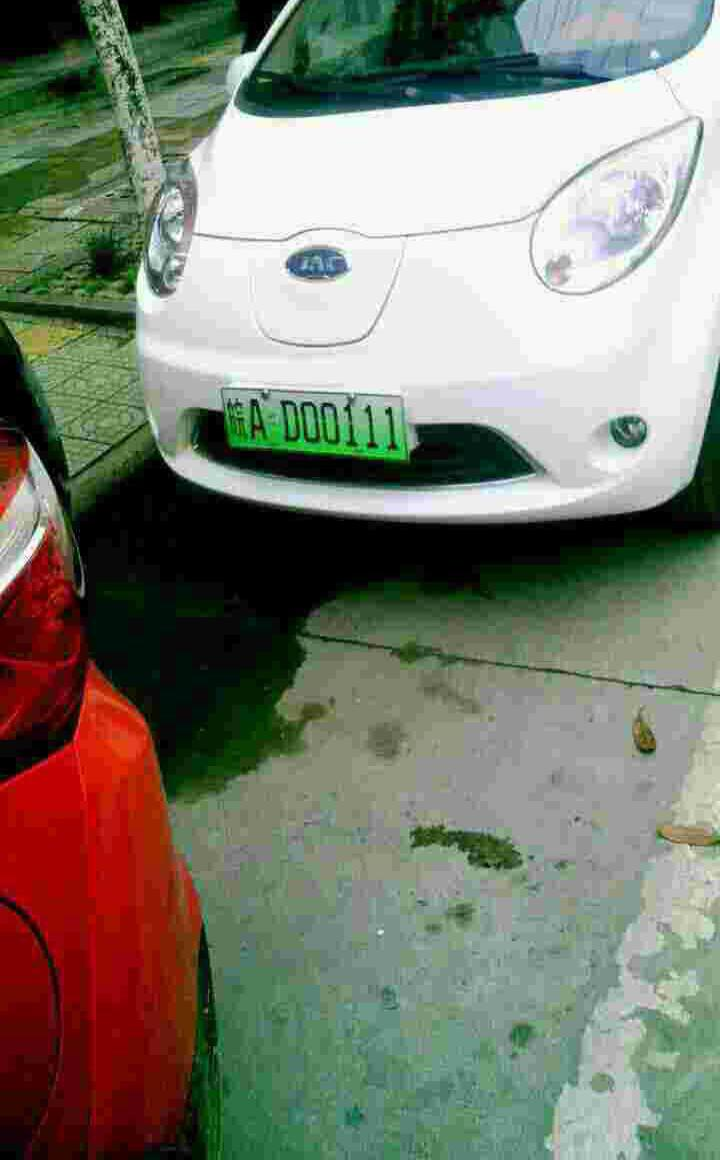car_green: (214, 385, 421, 472)
